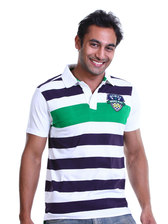clothoes: (18, 61, 149, 217)
